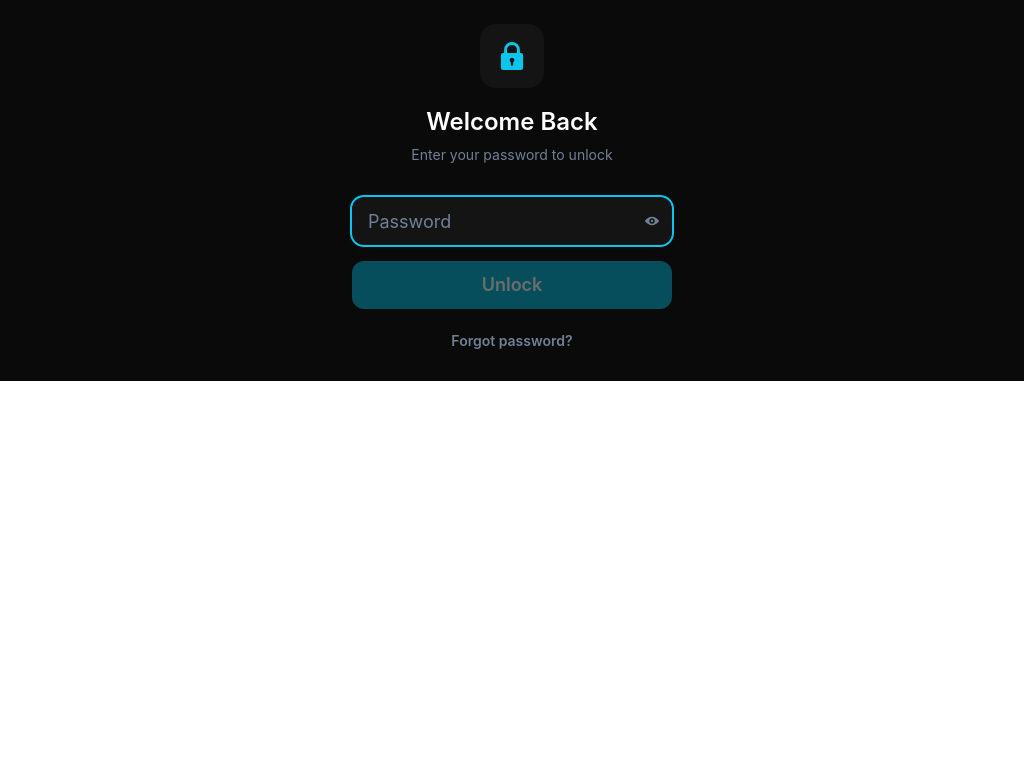
Unlock reset › asks before removing the saved wallet
The width and height of the screenshot is (1024, 768).
Click the button "Forgot password?".
click(512, 341)  # box [439,325,585,357]
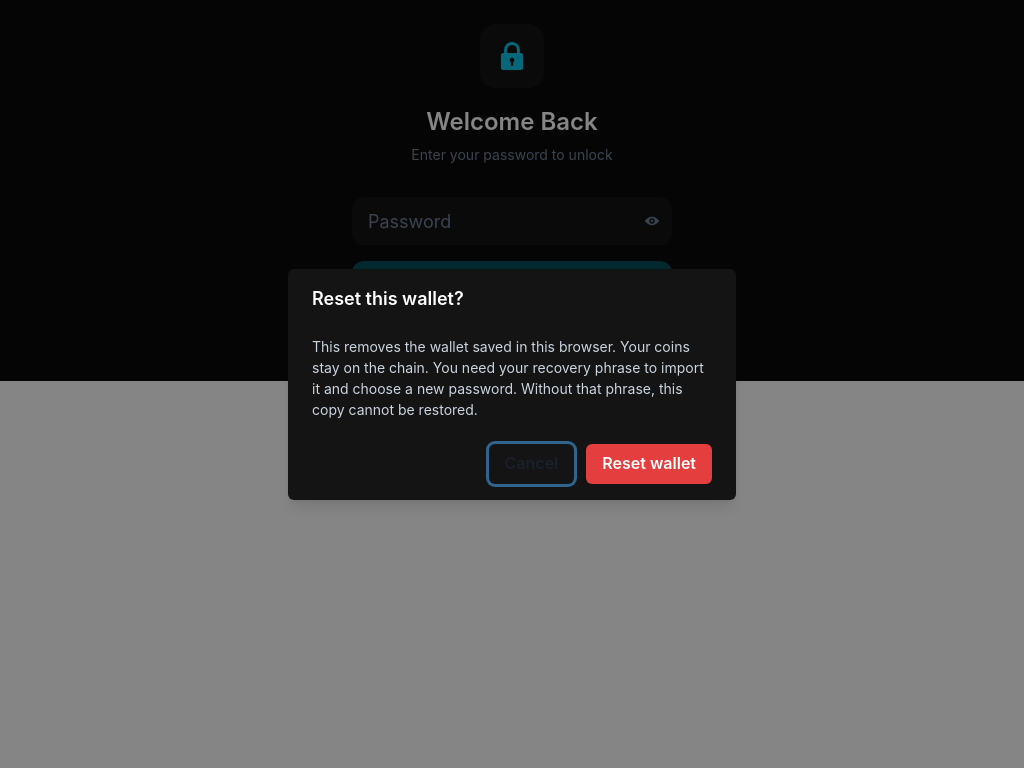
Expected: the dialog shows "Reset this wallet?", [312,288,464,308]
Expected: the dialog shows "recovery phrase", [312,338,704,418]
